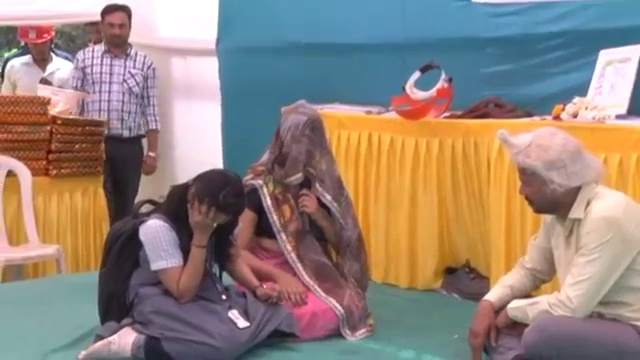helmet: (15, 26, 55, 45)
helmet_off: (510, 131, 596, 220), (176, 170, 244, 243), (273, 104, 330, 177), (93, 1, 132, 51)
helmet_on: (15, 24, 58, 66)
person: (76, 167, 293, 360), (466, 129, 638, 360), (230, 100, 368, 341), (66, 2, 161, 228), (0, 21, 81, 94)
